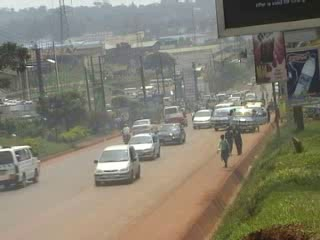Car: (92, 142, 142, 186), (125, 131, 162, 163), (154, 120, 187, 146), (190, 107, 214, 130), (130, 115, 155, 134)
Motorcycle: (119, 120, 132, 144)
